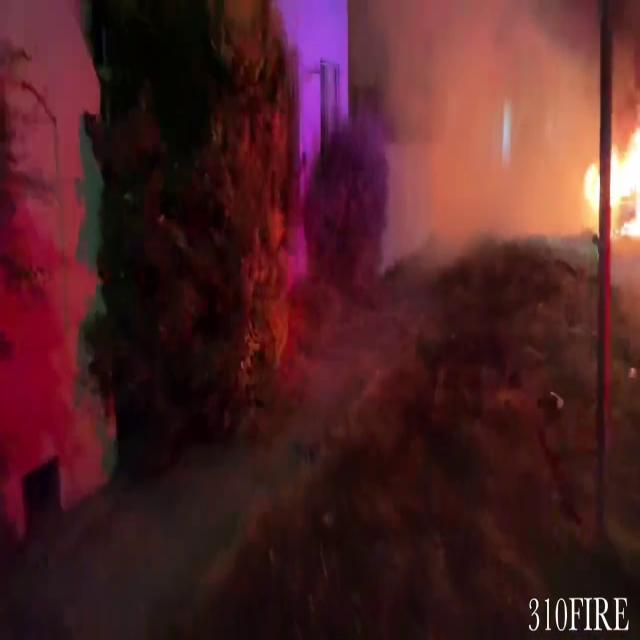Fire: (579, 101, 640, 246)
Smoke: (366, 1, 600, 262)
